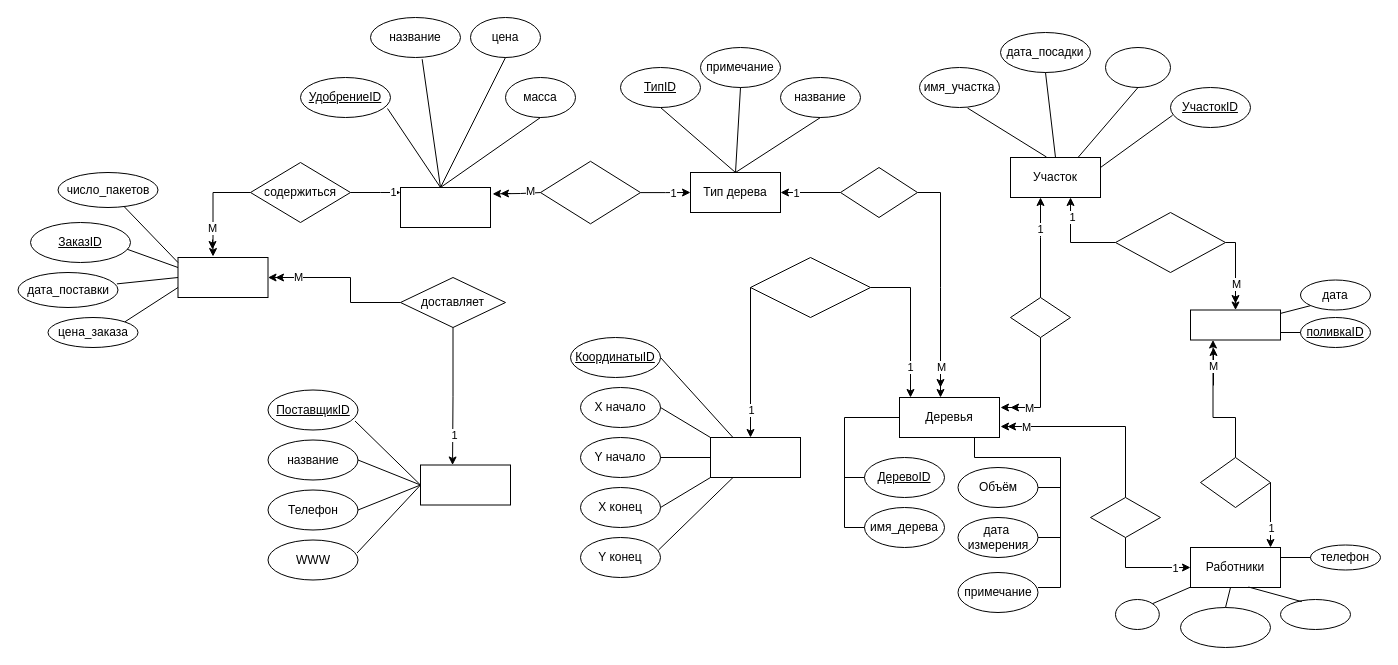
This 1398x665 diagram has some shape labels left out. The centre of each missing label's shape, as x and y in pixels:
"Адрес" goes at point (1137, 67).
"Делятся на" goes at point (879, 192).
"должность" goes at point (1315, 614).
"Заказ" goes at point (222, 277).
"Координаты" goes at point (755, 457).
"осуществляется" goes at point (1170, 242).
"поливает" goes at point (1235, 482).
"поливка" goes at point (1235, 324).
"Поставщик" goes at point (465, 484).
"предназначен" goes at point (590, 192).
"РаботникID" goes at point (1225, 627).
"располагаются по" goes at point (810, 287).
"растут" goes at point (1040, 317).
"сажают" goes at point (1125, 517).
"удобрения" goes at point (445, 207).
"ФИО" goes at point (1136, 614).
